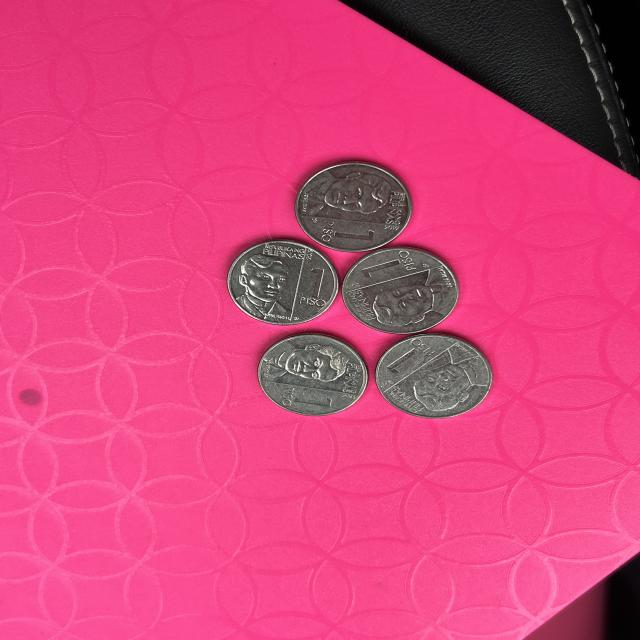1_New_Front: (383, 338, 437, 372), (275, 384, 339, 412), (318, 216, 376, 246), (294, 264, 328, 309), (363, 254, 415, 280)
